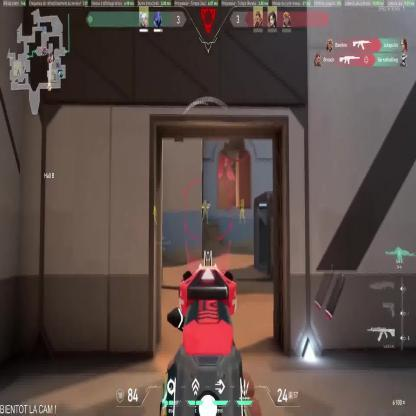enemy: (201, 199, 209, 222), (240, 199, 247, 224), (152, 205, 158, 225)
enemy_head: (240, 200, 244, 204), (153, 204, 156, 209), (204, 199, 206, 204)
